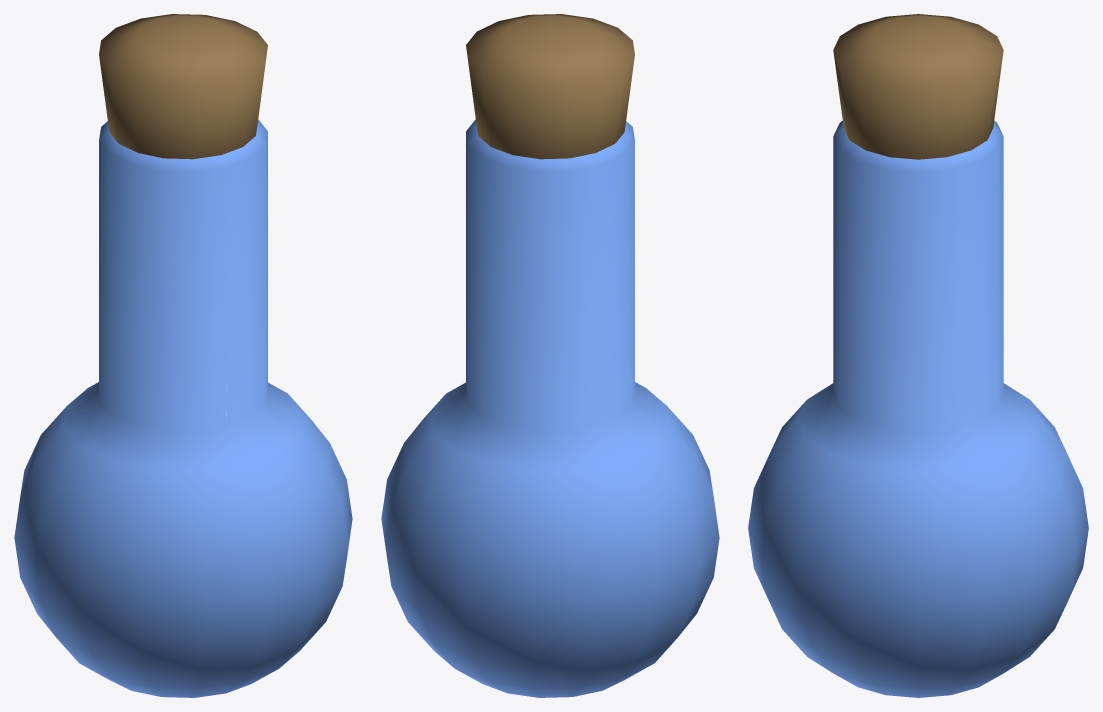
The model's file is HealthPotion.fbx.
3 renders of one model, left to right at view 1: azimuth 30°, elevation 25°; view 2: azimuth 150°, elevation 25°; view 3: azimuth 270°, elevation 25°, orthographic.
Parts seen in each view (by area): view 1: Sphere.001; view 2: Sphere.001; view 3: Sphere.001.
Part boxes in pixels (x1,y1,x2,y2): Sphere.001: (14,14,352,697); Sphere.001: (381,14,719,697); Sphere.001: (748,14,1088,697).
Size of the model in its own units: 200 by 423 by 200.
